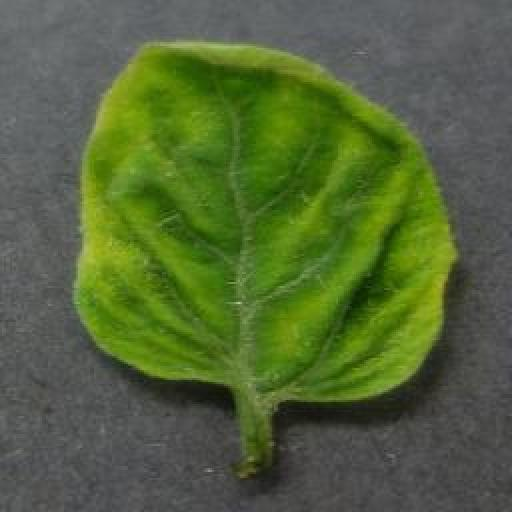disease_tomato: (78, 40, 461, 405)
